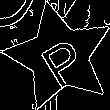P_NW: (30, 26, 89, 87)
